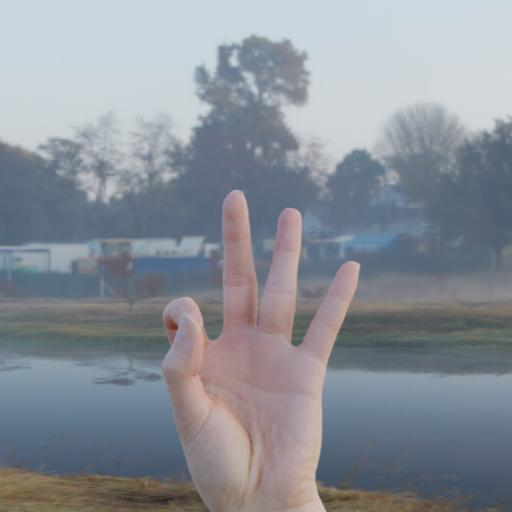F: (156, 164, 407, 512)
